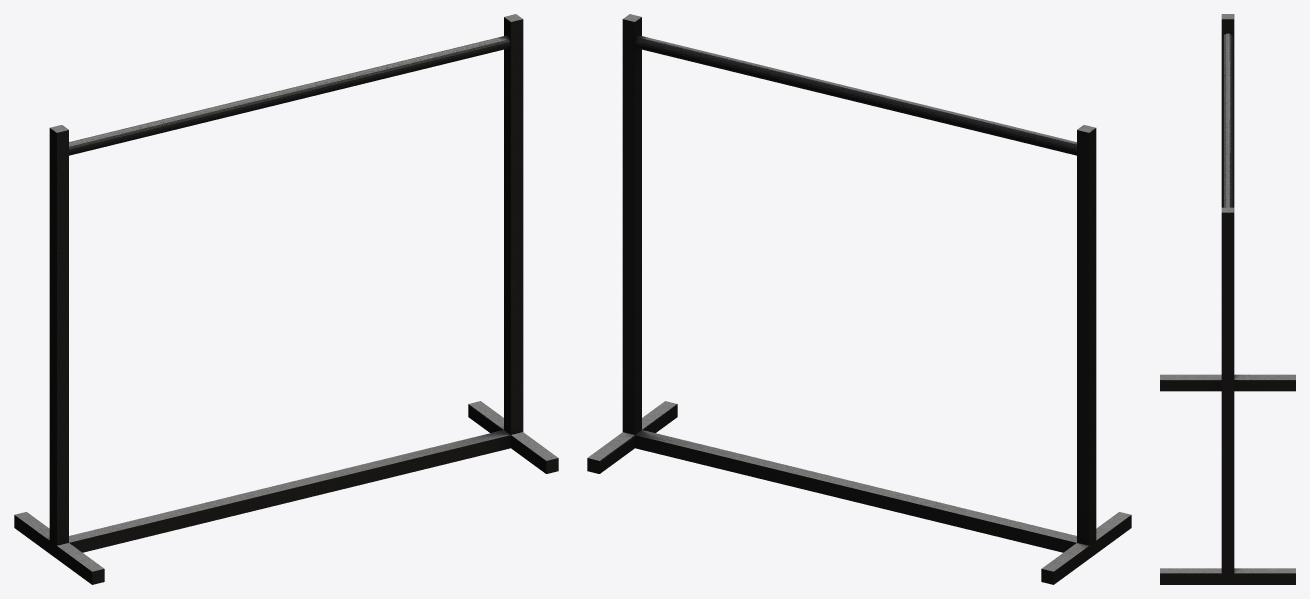
The model's file is Rack_Hanger1_1.7x1.5x0.5.glb.
3 renders of one model, left to right at view 1: azimuth 30°, elevation 25°; view 2: azimuth 150°, elevation 25°; view 3: azimuth 270°, elevation 25°, orthographic. The views are drawn at different scales.
Parts seen in each view (by area): view 1: Hanger_Baked; view 2: Hanger_Baked; view 3: Hanger_Baked.
Part boxes in pixels (left/top/right/bottom): Hanger_Baked: left=14, top=14, right=558, bottom=584; Hanger_Baked: left=587, top=14, right=1131, bottom=584; Hanger_Baked: left=1160, top=14, right=1295, bottom=584.
Size of the model in its own units: 1.67 by 1.45 by 0.4817.
Materials: 1 (1 with a texture image).
